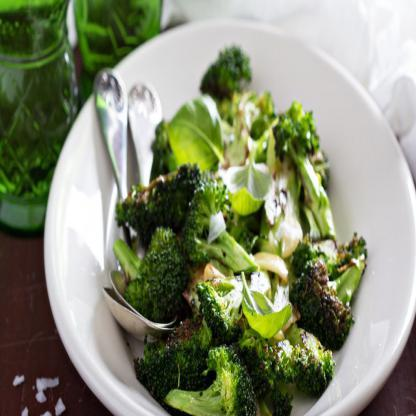broccoli: (107, 41, 368, 416)
